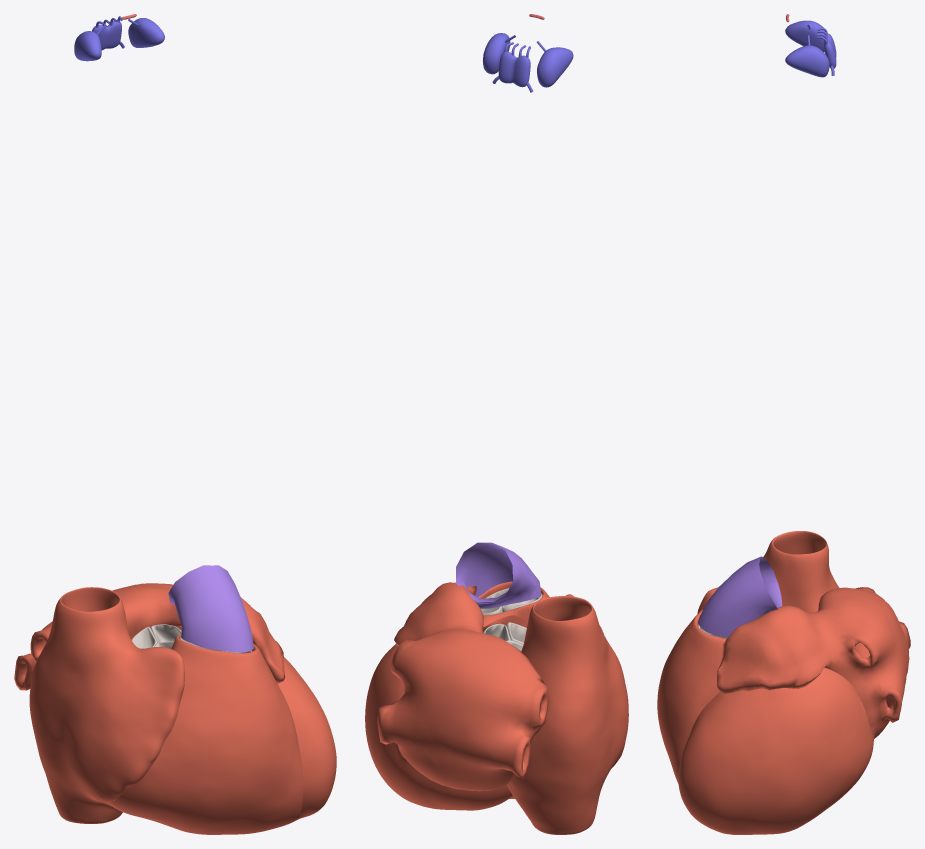
Rendered from cardiovascular-system.glb.
3 views of the same model, side by side, from view 1: azimuth 30°, elevation 25°; view 2: azimuth 150°, elevation 25°; view 3: azimuth 270°, elevation 25° (orthographic). The views are drawn at different scales.
Parts seen in each view (by area): view 1: Right atrium, Right ventricle, Pulmonary trunk, Left atrium, Left ventricle, Cavernous sinus.l, Cavernous sinus.r, Basilar venous plexus; view 2: Left atrium, Right atrium, Left ventricle, Pulmonary trunk, Basilar venous plexus, Cavernous sinus.r, Right ventricle, Cavernous sinus.l; view 3: Left ventricle, Left atrium, Right ventricle, Right atrium, Pulmonary trunk, Cavernous sinus.l, Cavernous sinus.r.
Part boxes in pixels (x1=…): Right atrium: x1=29, y1=587, x2=184, y2=823; Right ventricle: x1=107, y1=634, x2=303, y2=834; Pulmonary trunk: x1=168, y1=565, x2=253, y2=652; Left atrium: x1=14, y1=583, x2=285, y2=690; Left ventricle: x1=177, y1=627, x2=336, y2=818; Cavernous sinus.l: x1=128, y1=18, x2=164, y2=47; Cavernous sinus.r: x1=74, y1=25, x2=106, y2=61; Basilar venous plexus: x1=92, y1=16, x2=124, y2=50; Left atrium: x1=377, y1=582, x2=548, y2=791; Right atrium: x1=507, y1=594, x2=628, y2=834; Left ventricle: x1=365, y1=615, x2=527, y2=810; Pulmonary trunk: x1=456, y1=542, x2=541, y2=608; Basilar venous plexus: x1=492, y1=42, x2=533, y2=92; Cavernous sinus.r: x1=536, y1=41, x2=573, y2=87; Right ventricle: x1=478, y1=581, x2=549, y2=798; Cavernous sinus.l: x1=483, y1=33, x2=515, y2=74; Left ventricle: x1=678, y1=668, x2=874, y2=834; Left atrium: x1=717, y1=587, x2=910, y2=738; Right ventricle: x1=657, y1=609, x2=726, y2=783; Right atrium: x1=697, y1=531, x2=839, y2=613; Pulmonary trunk: x1=698, y1=556, x2=782, y2=637; Cavernous sinus.l: x1=785, y1=35, x2=829, y2=77; Cavernous sinus.r: x1=785, y1=20, x2=824, y2=52.
Bounding box in the file's own units: 0.1191 × 0.3738 × 0.1129.
